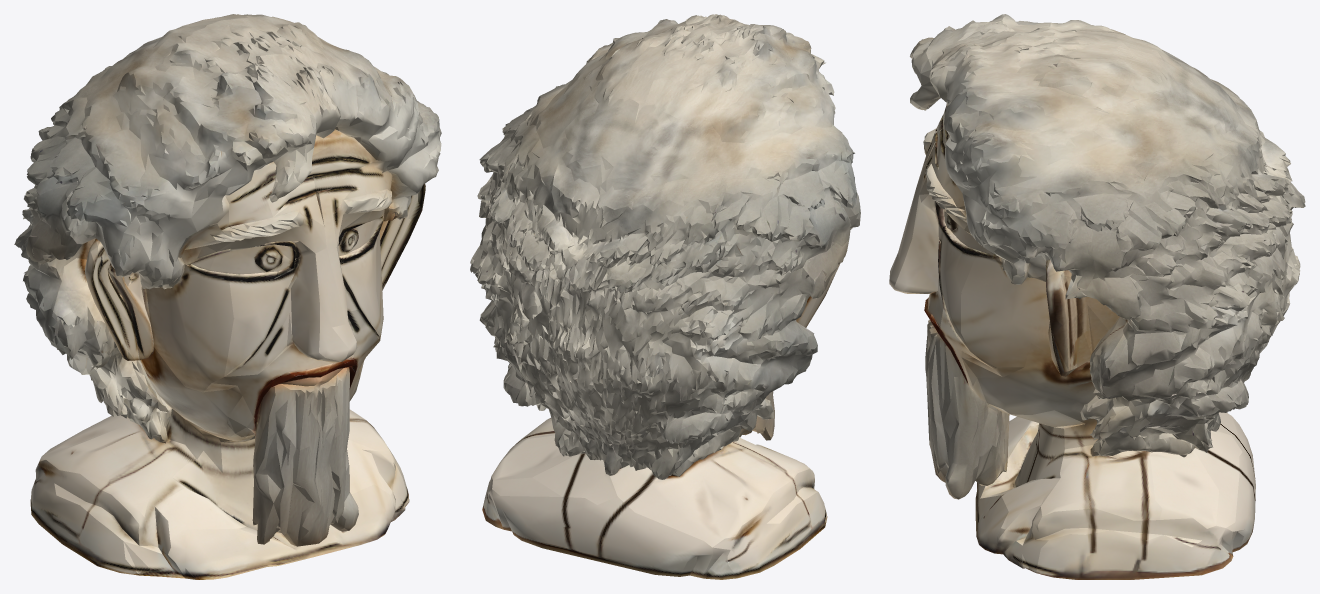
File: 박첨지.glb
3 views of the same model, side by side, from view 1: azimuth 30°, elevation 25°; view 2: azimuth 150°, elevation 25°; view 3: azimuth 270°, elevation 25° (orthographic). The views are drawn at different scales.
Size of the model in its own units: 1.48 by 1.88 by 1.5.
Materials: 1 (1 with a texture image).
